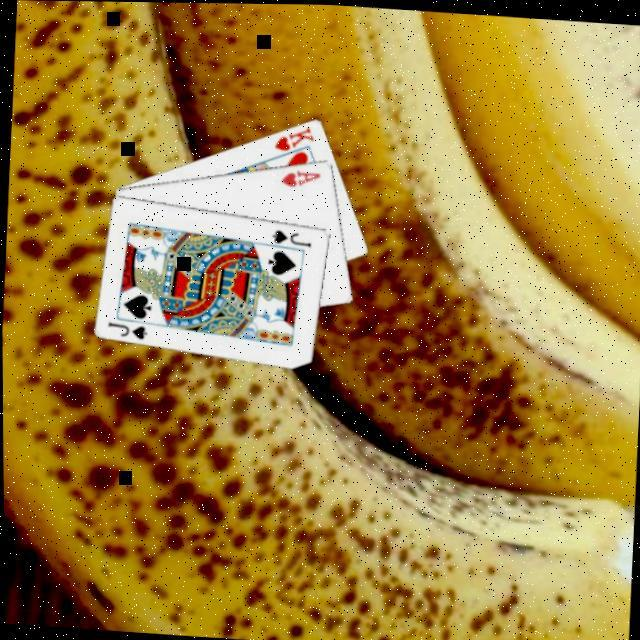AH: (279, 163, 324, 190)
JS: (105, 316, 152, 342), (269, 224, 316, 248)
KH: (271, 120, 319, 154)
